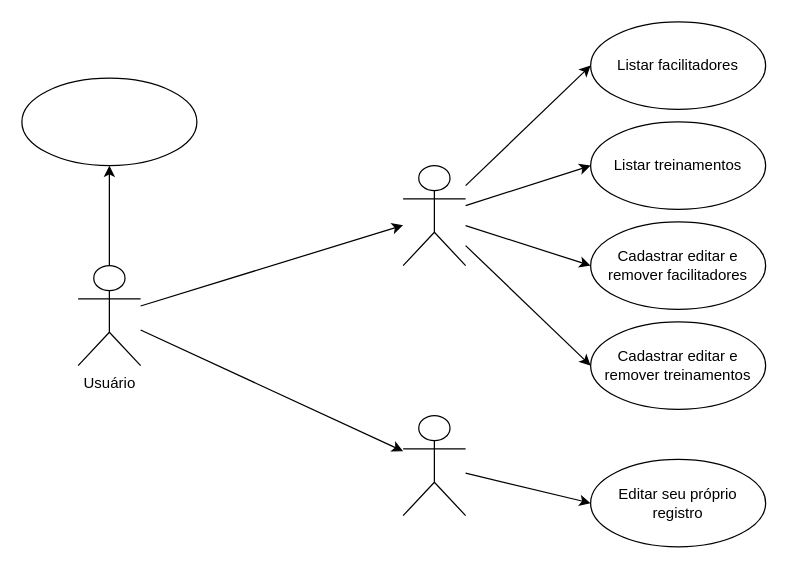
Some shapes in this 788 by 569 pixel diagram are drawn without their labels. The shapes that lost their labels are listed below. From the top down, each one's centre as x and y in pixels, then its label:
point (109, 121): Efetuar login
point (434, 215): Gestor
point (434, 465): Facilitador
